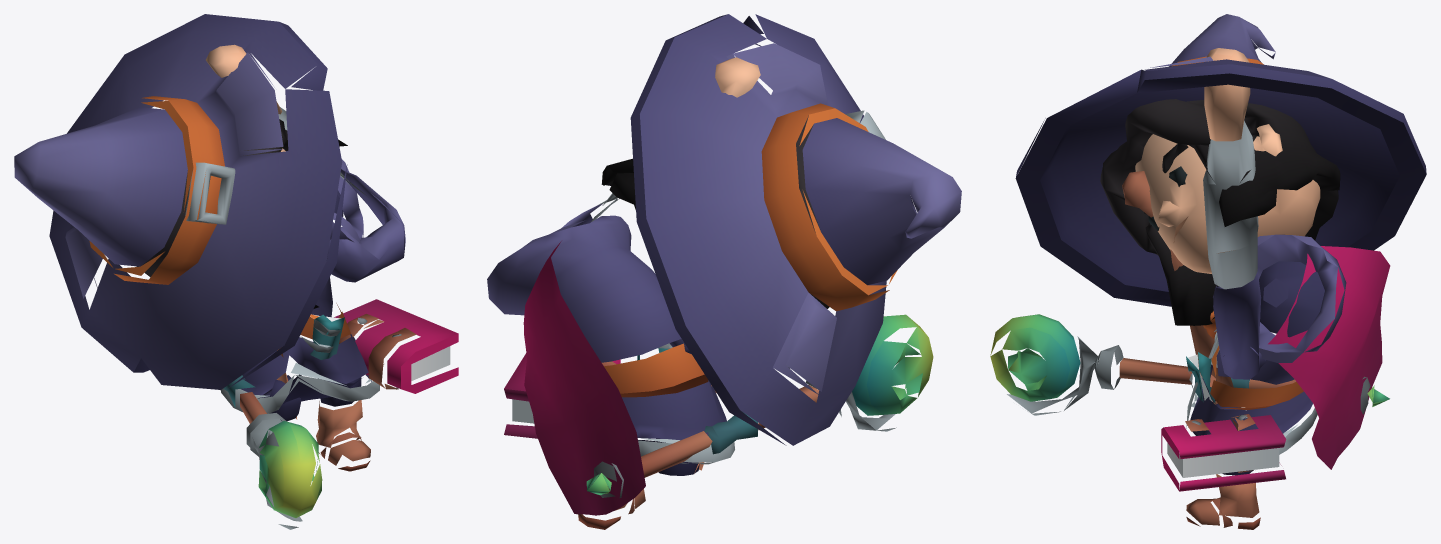
The model's file is enemy_splitter.glb.
3 renders of one model, left to right at view 1: azimuth 30°, elevation 25°; view 2: azimuth 150°, elevation 25°; view 3: azimuth 270°, elevation 25°, orthographic. The views are drawn at different scales.
Visible parts, largest first — view 1: splitter; view 2: splitter; view 3: splitter.
Boxes of the visible parts, x1=… form: splitter: x1=14, y1=14, x2=458, y2=529; splitter: x1=487, y1=14, x2=961, y2=529; splitter: x1=990, y1=14, x2=1426, y2=529.
Size of the model in its own units: 0.8431 by 0.8931 by 0.818.
Materials: 1 (1 with a texture image).
